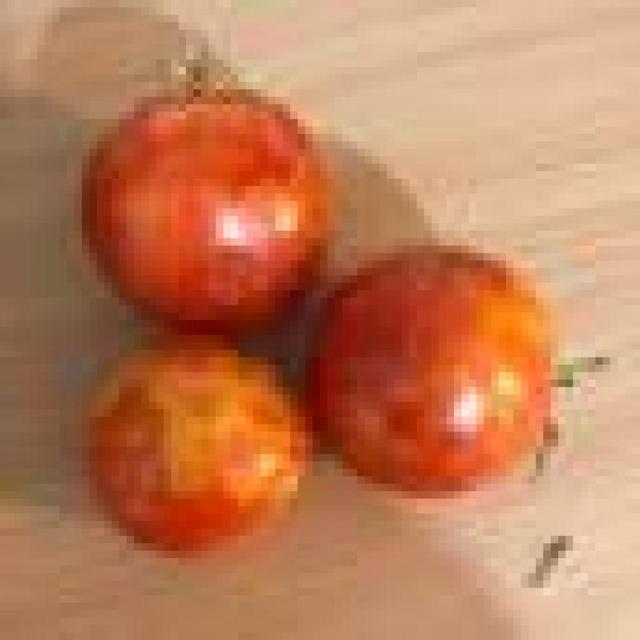Spotted wilt Virus Fruit: (134, 137, 289, 298)
